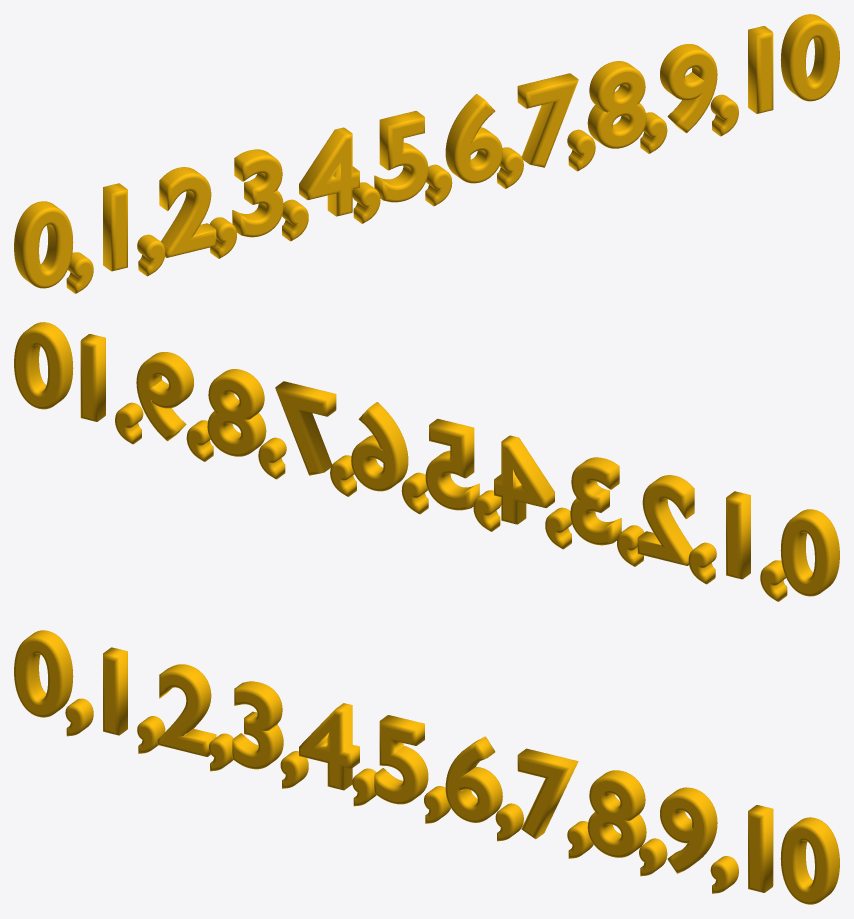
Rendered from num.glb.
The picture shows the model from 3 angles, top to bottom: view 1: azimuth 30°, elevation 25°; view 2: azimuth 150°, elevation 25°; view 3: azimuth 330°, elevation 25°; orthographic projection.
Parts seen in each view (by area): view 1: Text; view 2: Text; view 3: Text.
Boxes of the visible parts, left/top/right/bottom form: Text: left=14, top=14, right=839, bottom=293; Text: left=14, top=322, right=839, bottom=601; Text: left=14, top=630, right=839, bottom=904.
Bounding box in the file's own units: 24.59 × 2.7 × 0.6.
